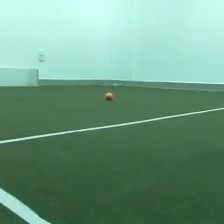ball: (103, 89, 114, 101)
goal: (1, 65, 42, 90)
